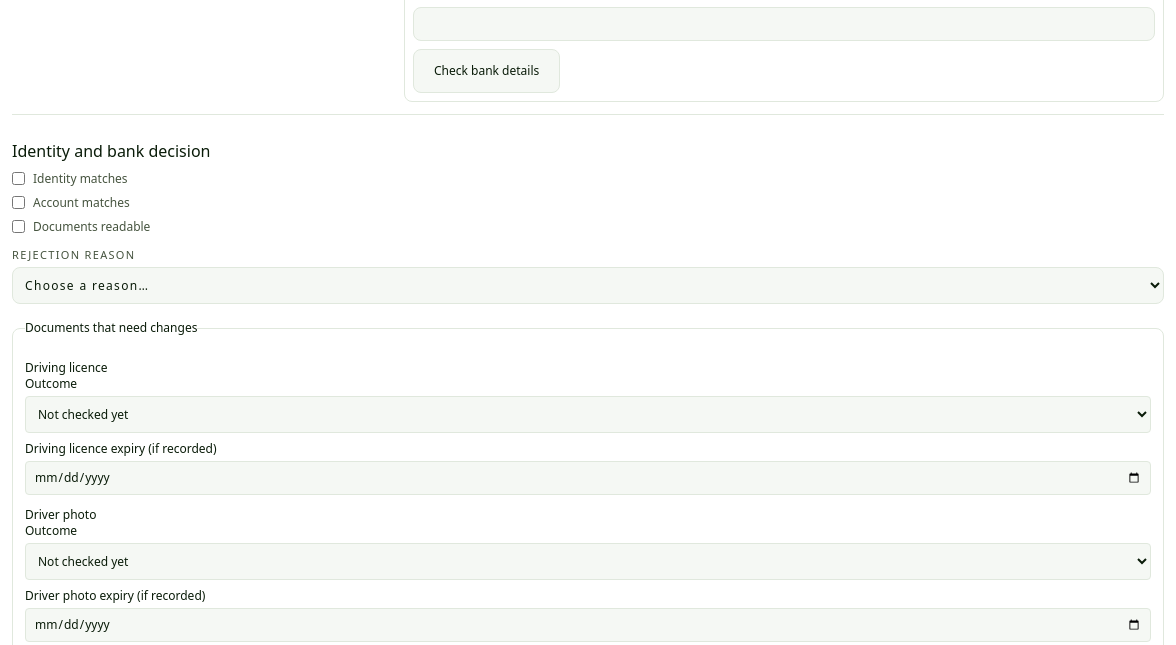
Test: requires a chosen reason only for Reject and posts the selected reason
The width and height of the screenshot is (1176, 645).
(page scrolled)
Step 1. Select "Identity mismatch" in the dropdown labelled "Rejection reason" → (588, 286), box [12,267,1164,304]
(page scrolled)
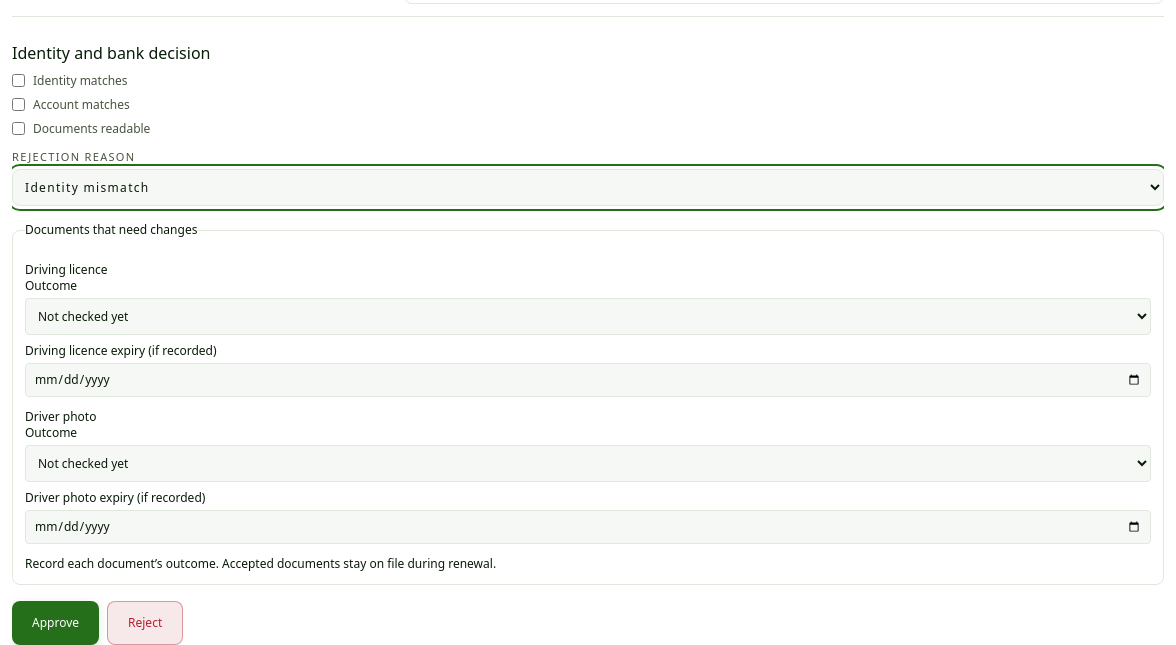
Step 2. Click the button "Reject" → (145, 623), box [107,601,183,644]
(page scrolled)
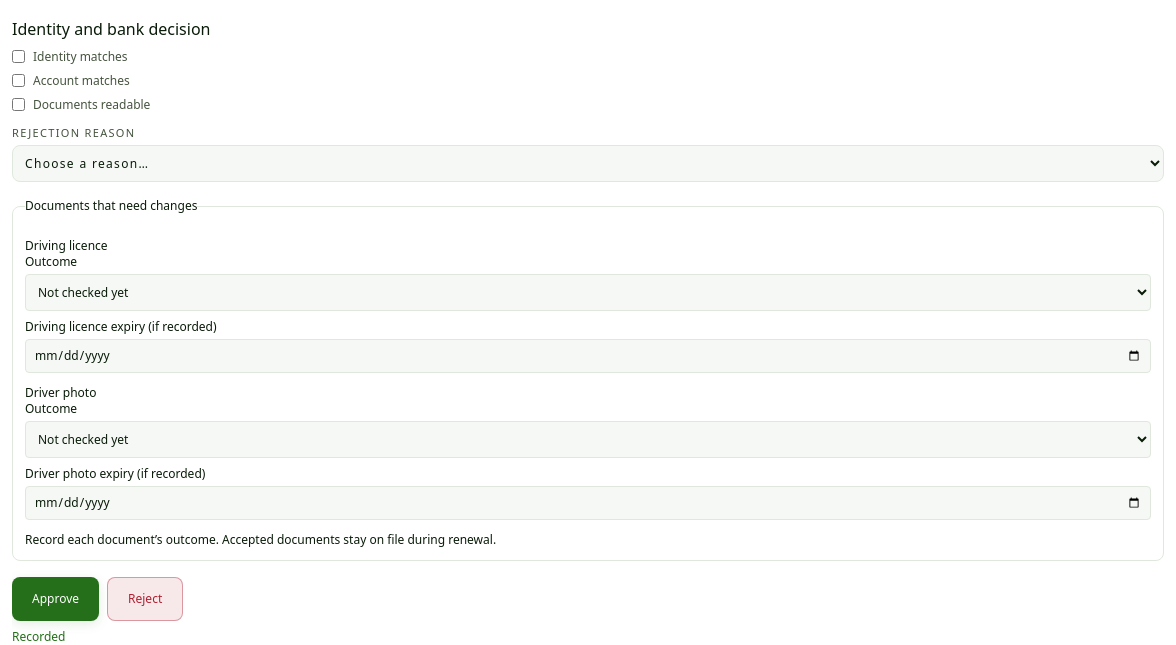
Check: the text "Recorded" is shown, box [12,628,66,644]
